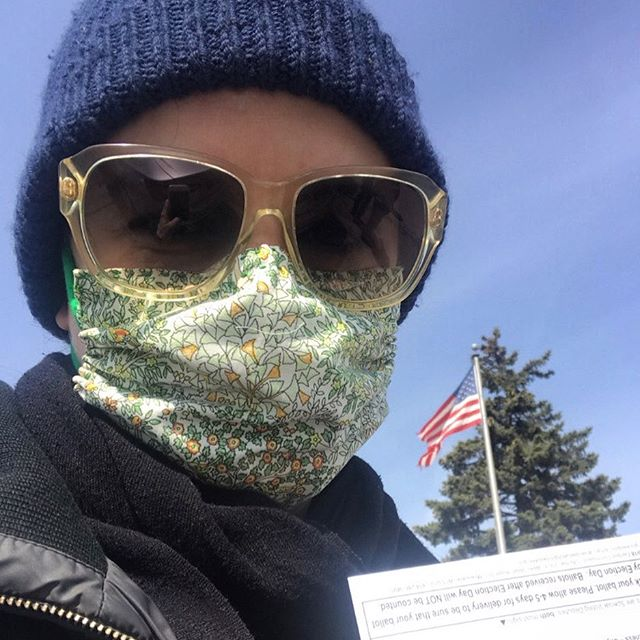homemade: (57, 259, 430, 498)
